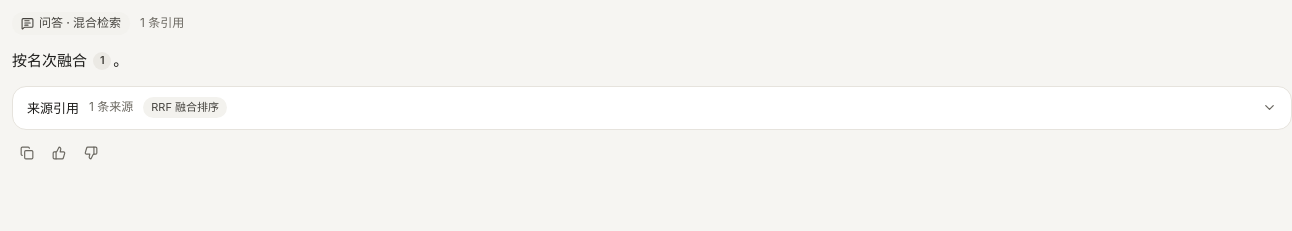
Test: MessageBubble 检索改写、证据充分性与反馈 › 点踩后可以补充原因，两次提交都带上回答 ID
This screenshot has width=1292, height=231.
Click the button named "回答没有帮助" at (91, 153), box [76,138,106,168]
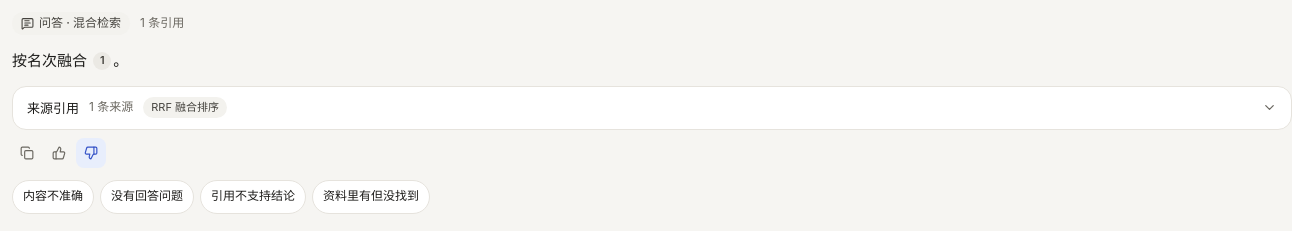
Click the button "引用不支持结论" at (253, 197), box [200,180,306,214]
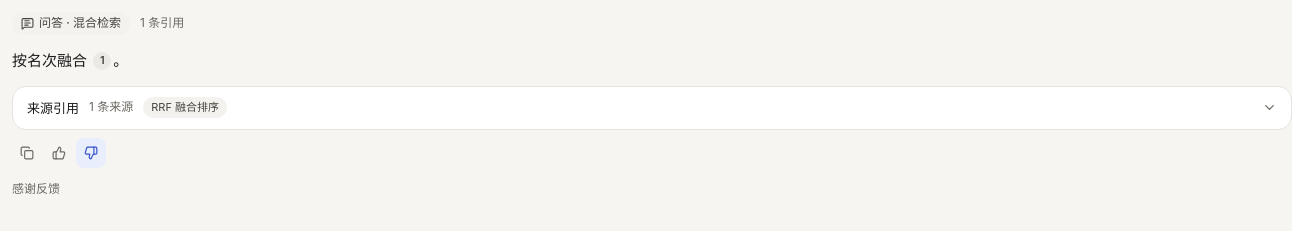
Expected: the text "感谢反馈" is shown, [12,181,60,196]
